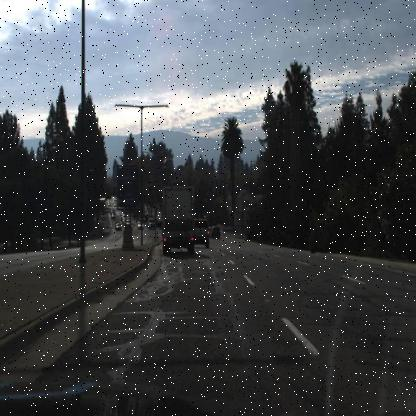car: (194, 216, 210, 250), (209, 222, 222, 242), (146, 216, 158, 231), (135, 220, 143, 233)
truck: (162, 182, 197, 258), (147, 216, 156, 230)
